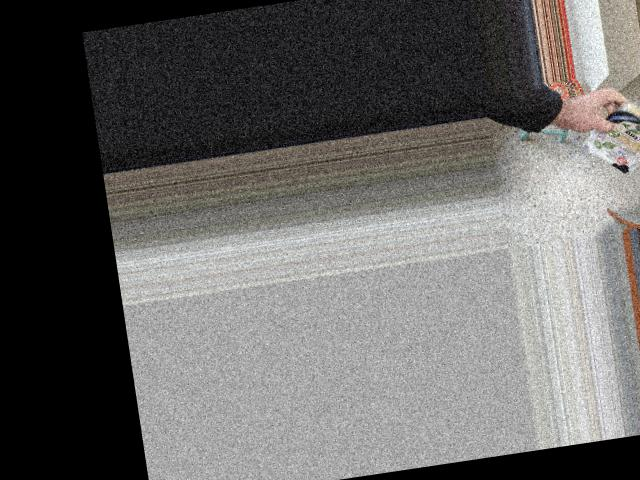cheese: (583, 72, 640, 187)
